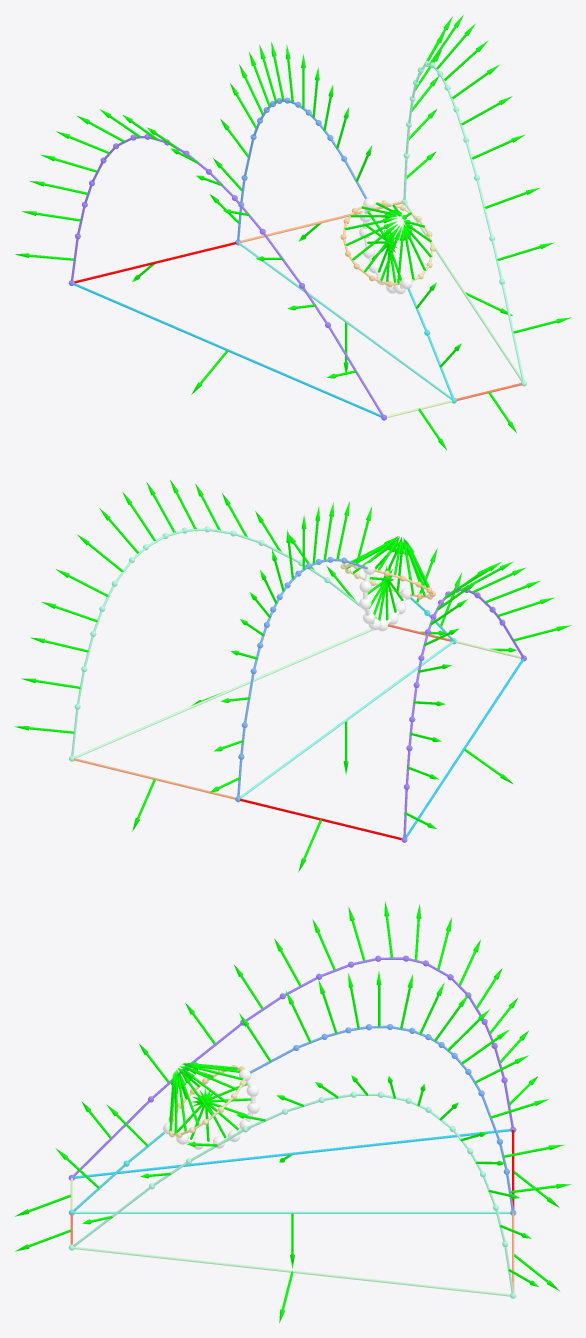
File: onshape_simple_mouse.gltf
The picture shows the model from 3 angles, top to bottom: view 1: azimuth 30°, elevation 25°; view 2: azimuth 150°, elevation 25°; view 3: azimuth 270°, elevation 25°; orthographic projection. The views are drawn at different scales.
Bounding box in the file's own units: 0.7986 × 0.5275 × 0.8921.
